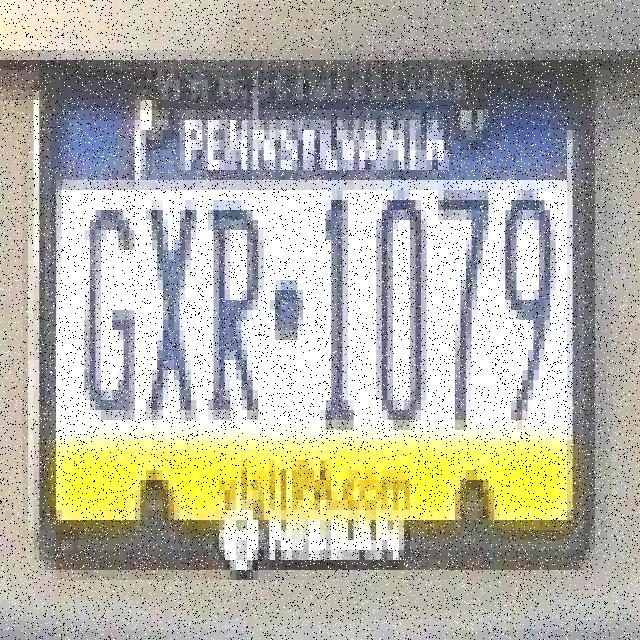licenseplate: (19, 32, 604, 588)
